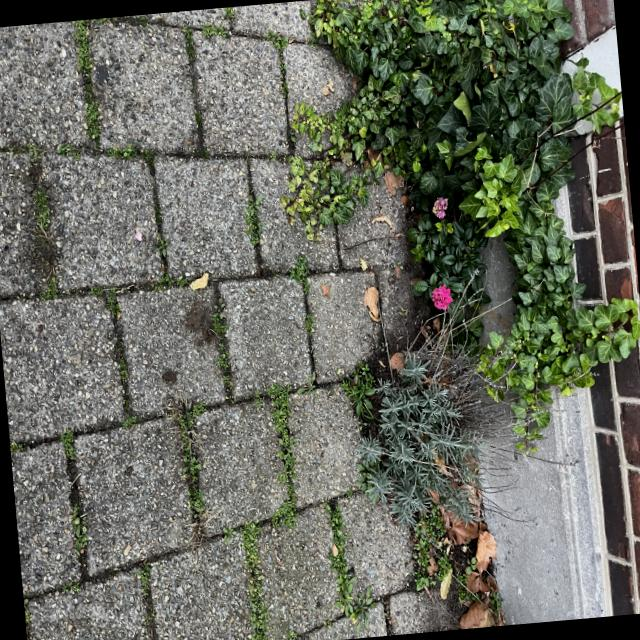leaves: (472, 142, 628, 197)
plants: (134, 5, 468, 339), (442, 244, 557, 350)
weedling: (253, 318, 636, 400)
